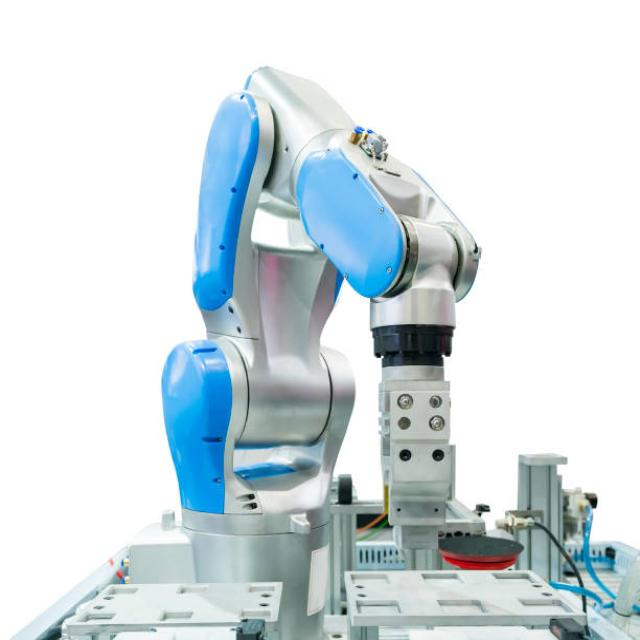Robotic-arm: (153, 53, 487, 536)
